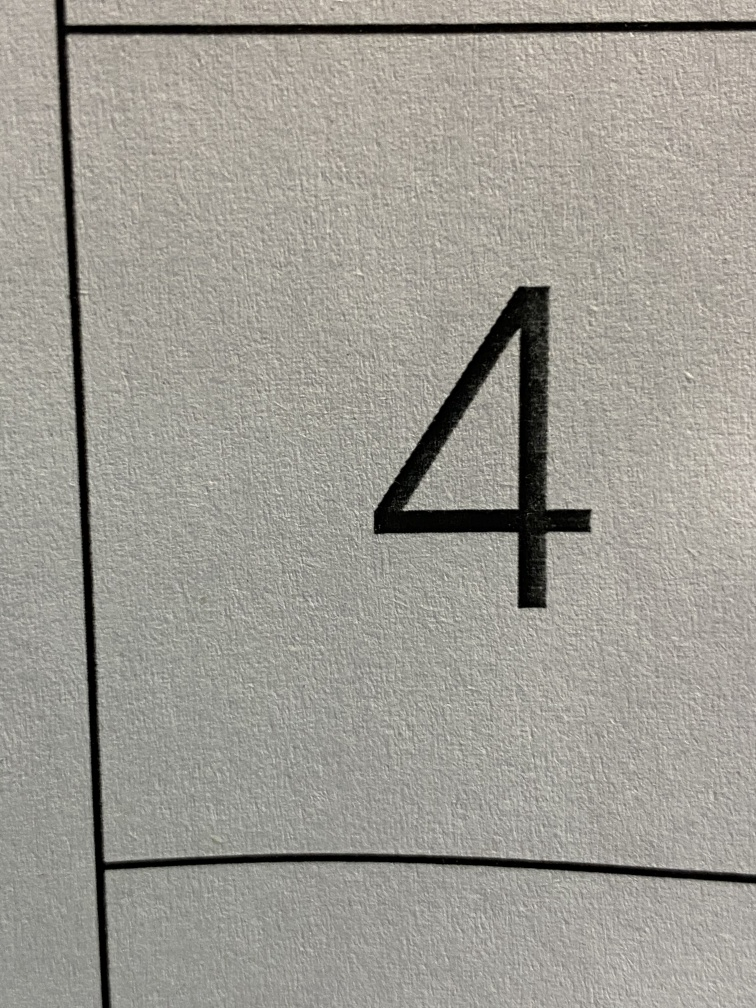four: (349, 230, 670, 689)
